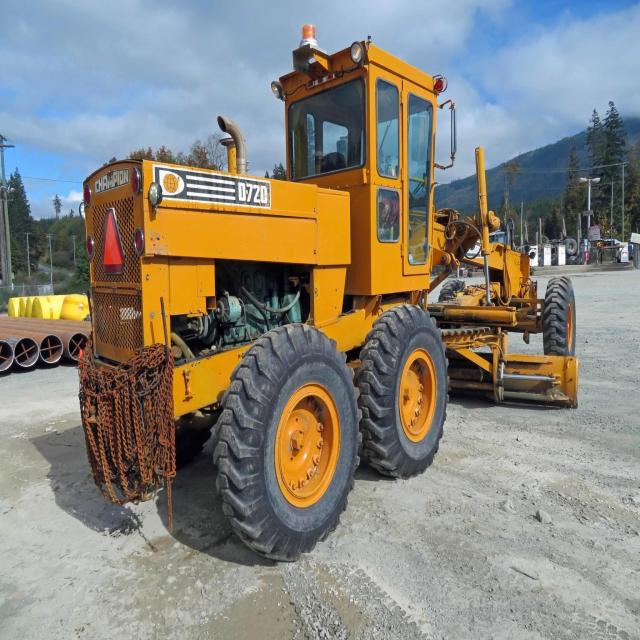buldozerpayloadergrader: (51, 19, 612, 555)
